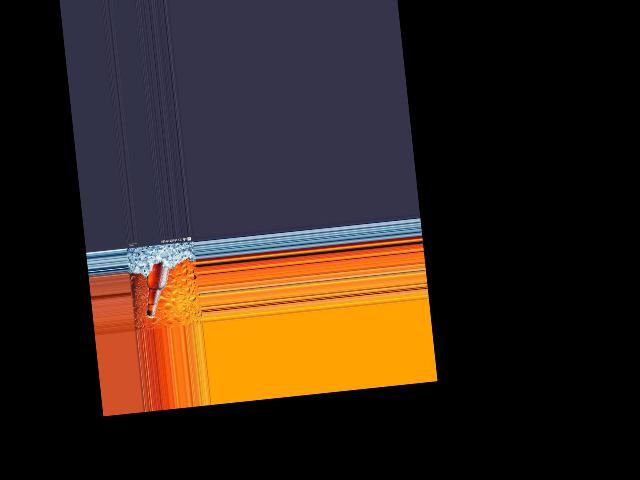beer: (138, 260, 173, 319)
